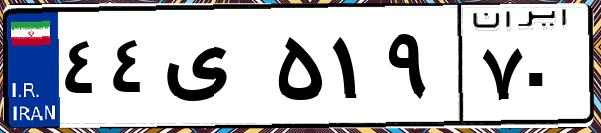0: (525, 38, 570, 115)
1: (330, 28, 385, 110)
4: (57, 26, 110, 100), (110, 28, 158, 98)
5: (270, 28, 330, 110)
7: (475, 38, 525, 113)
9: (385, 28, 445, 110)
ی: (158, 20, 270, 120)
